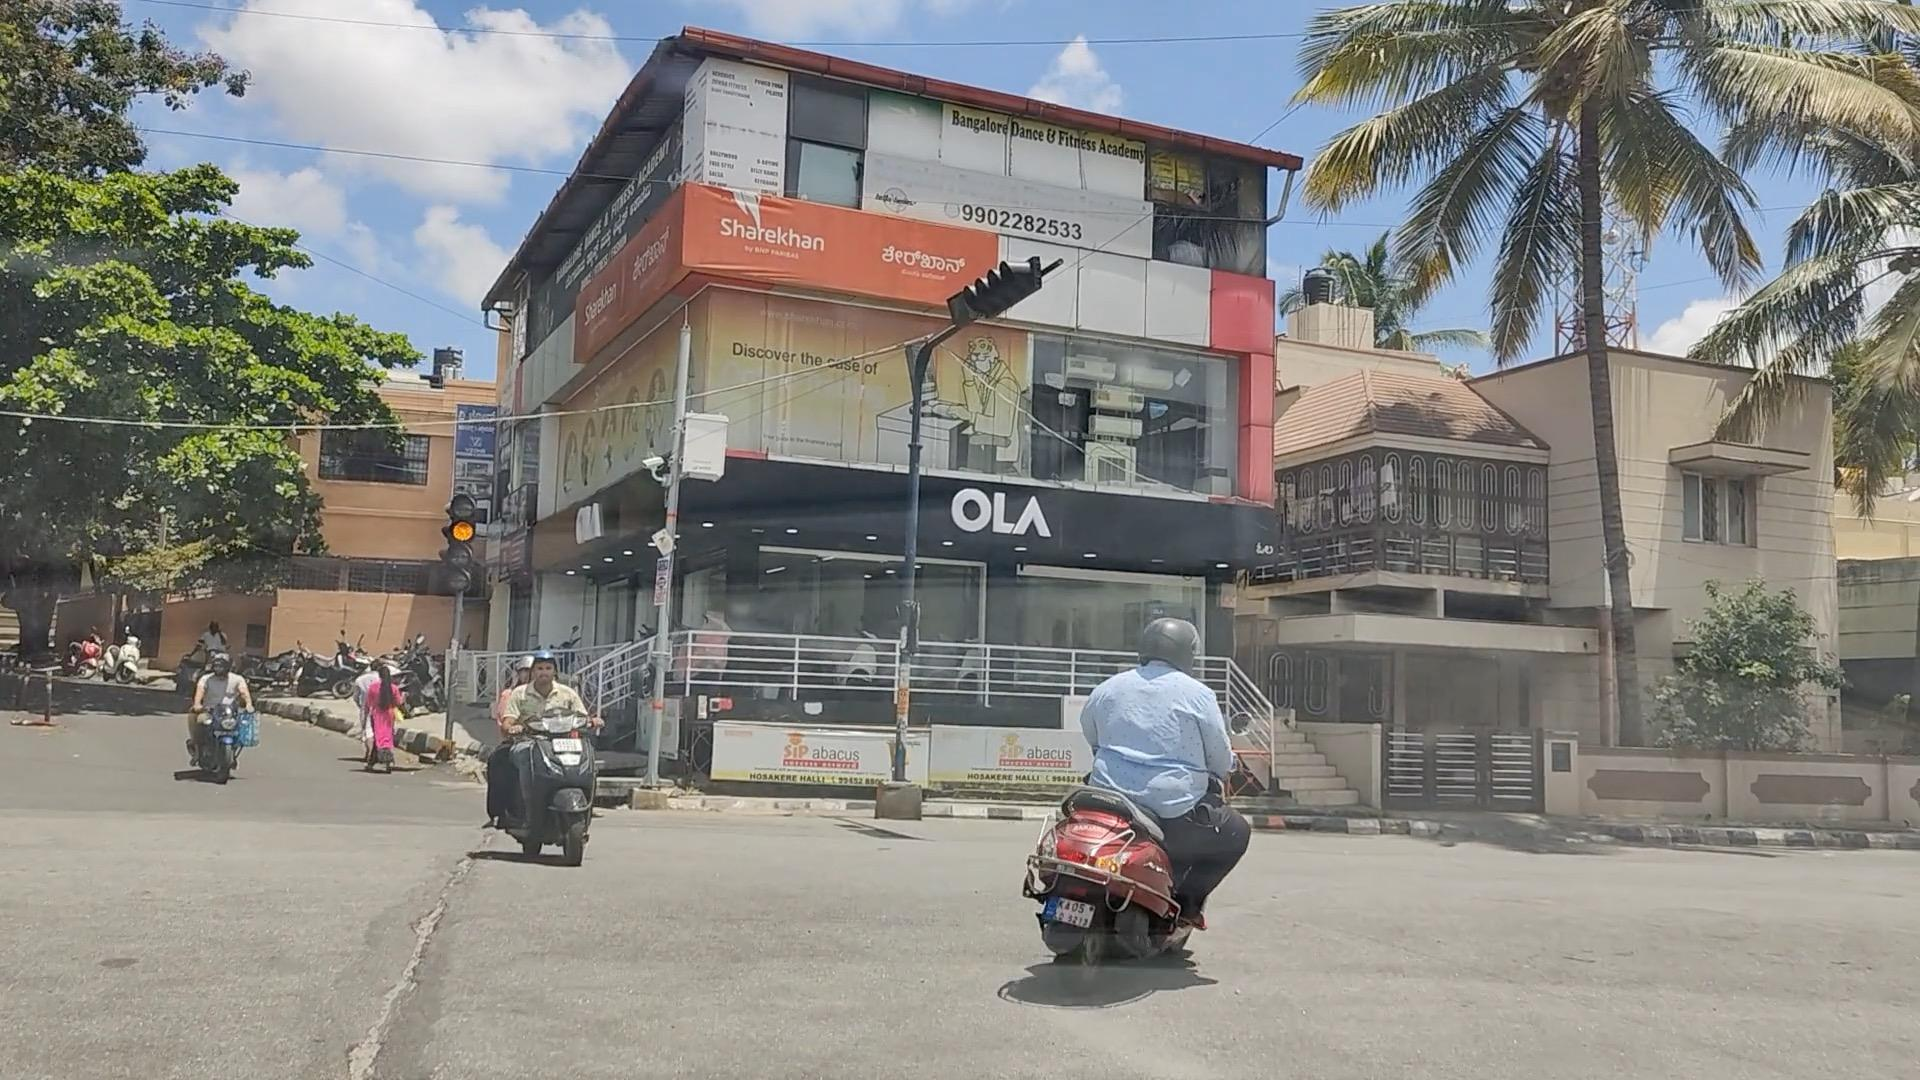LMV: (1043, 620, 1247, 982), (491, 653, 603, 856)
RoadDamages: (330, 897, 467, 1080)
